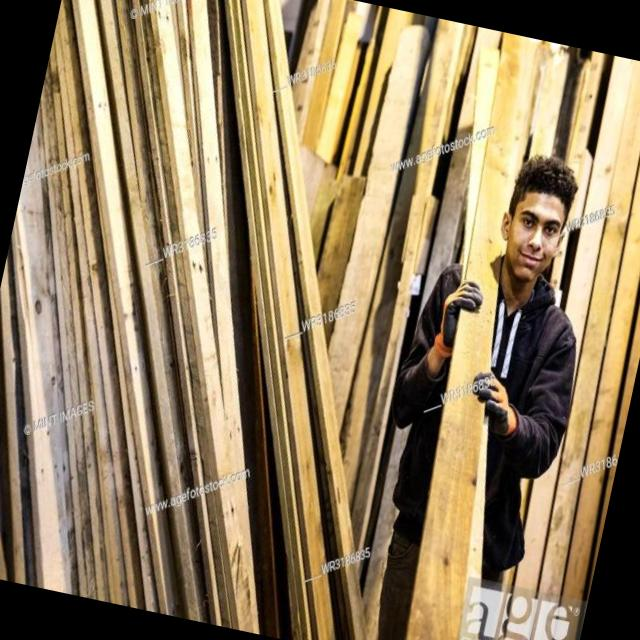Gloves: (448, 350, 542, 453), (412, 256, 492, 368)
